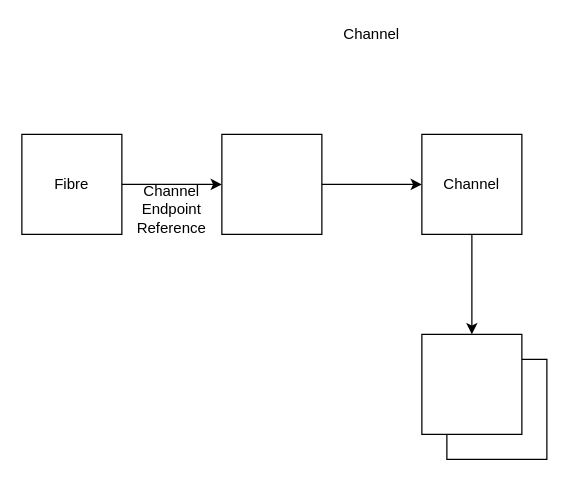
This 569x481 diagram has some shape labels left out. The centre of each missing label's shape, as x and y in pixels:
Channel Endpoint: the point at 271,183
Waiting Fibres: the point at 471,383
